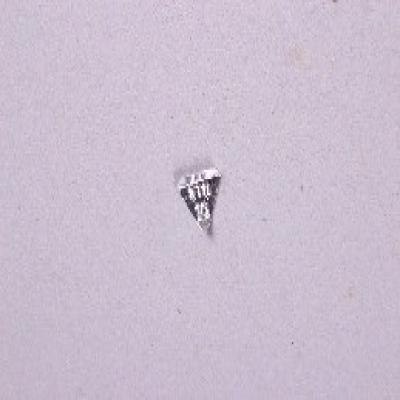technique: (178, 170, 222, 237)
